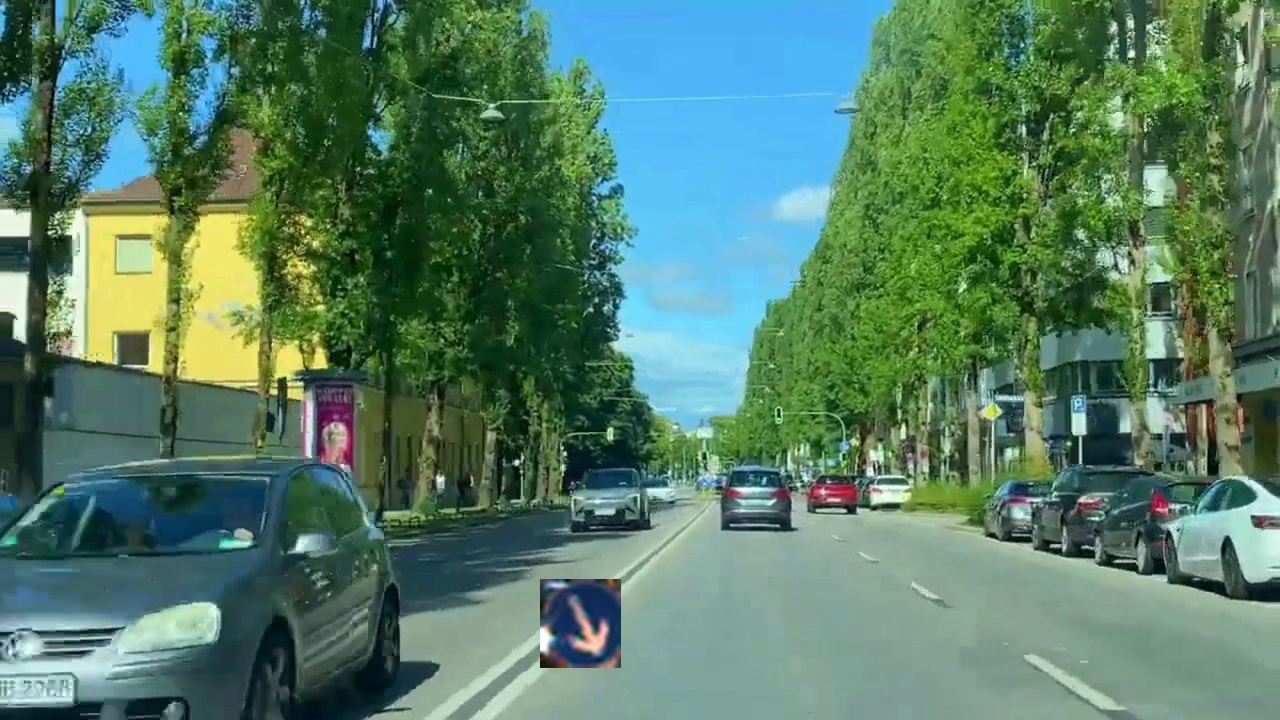Keep right: (540, 579, 621, 668)
